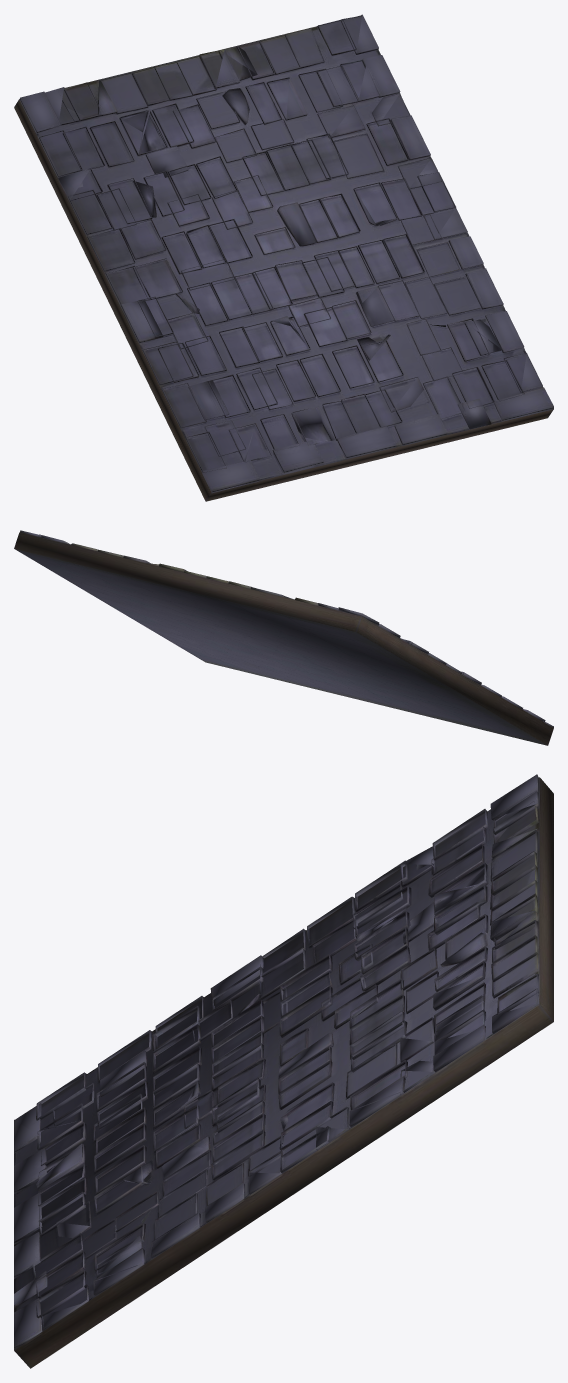
Rendered from roof-slope.glb.
3 views of the same model, one above another, from view 1: azimuth 30°, elevation 25°; view 2: azimuth 150°, elevation 25°; view 3: azimuth 270°, elevation 25° (orthographic). The views are drawn at different scales.
Bounding box in the file's own units: 2 × 1.5 × 2.
Materials: 1 (1 with a texture image).
